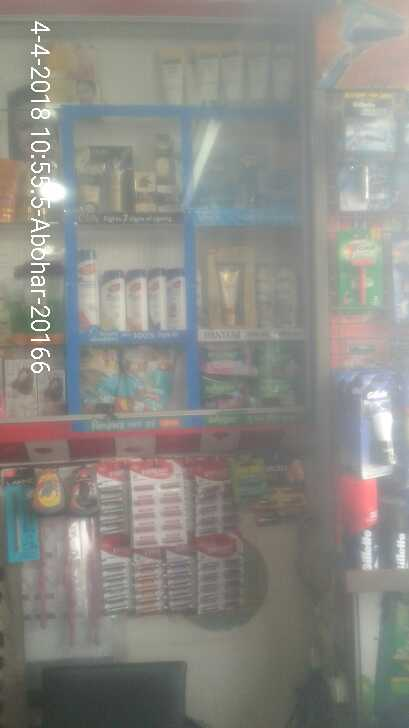gillete: (358, 372, 396, 472), (345, 90, 400, 150), (350, 475, 377, 570), (385, 498, 407, 568)
venus: (230, 142, 264, 207)
